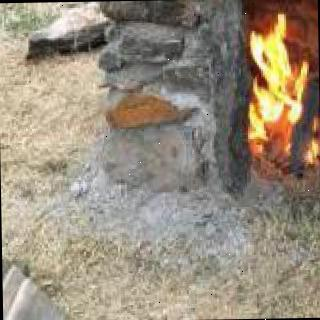fire: (235, 13, 320, 174)
